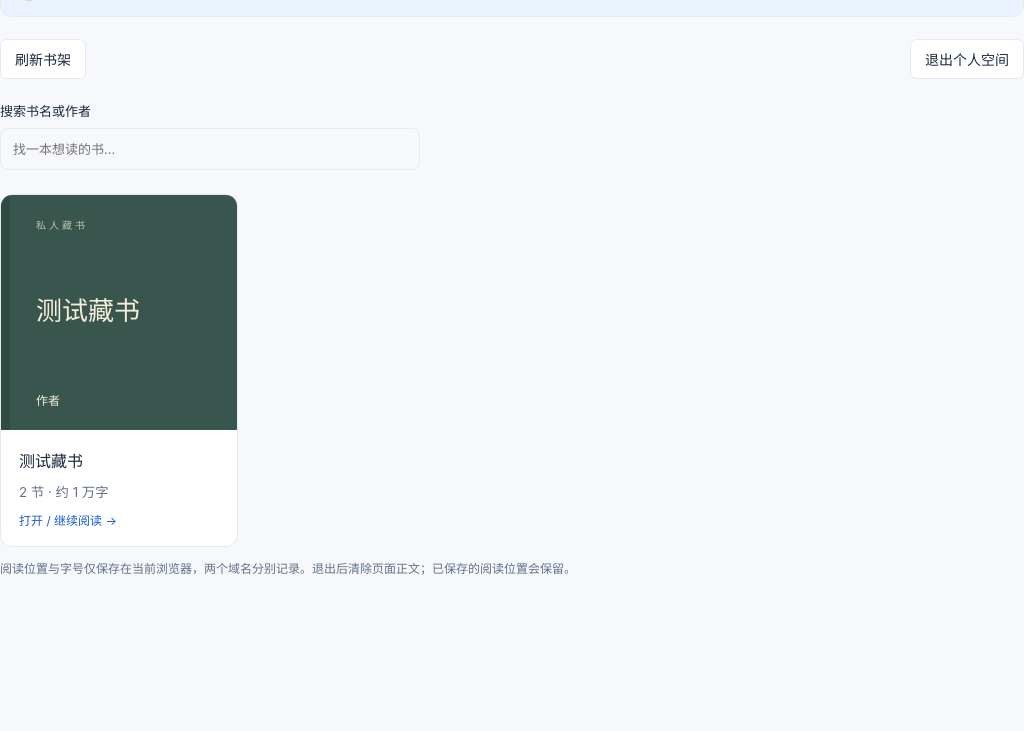
Scenario: expired session clears book metadata and content on the next chapter request
Click the button "私人藏书 测试藏书 作者 测试藏书 2 节 · 约 1 万字 打开 / 继续阅读 →" at (119, 370), box x1=0 y1=194 x2=238 y2=547
(page scrolled)
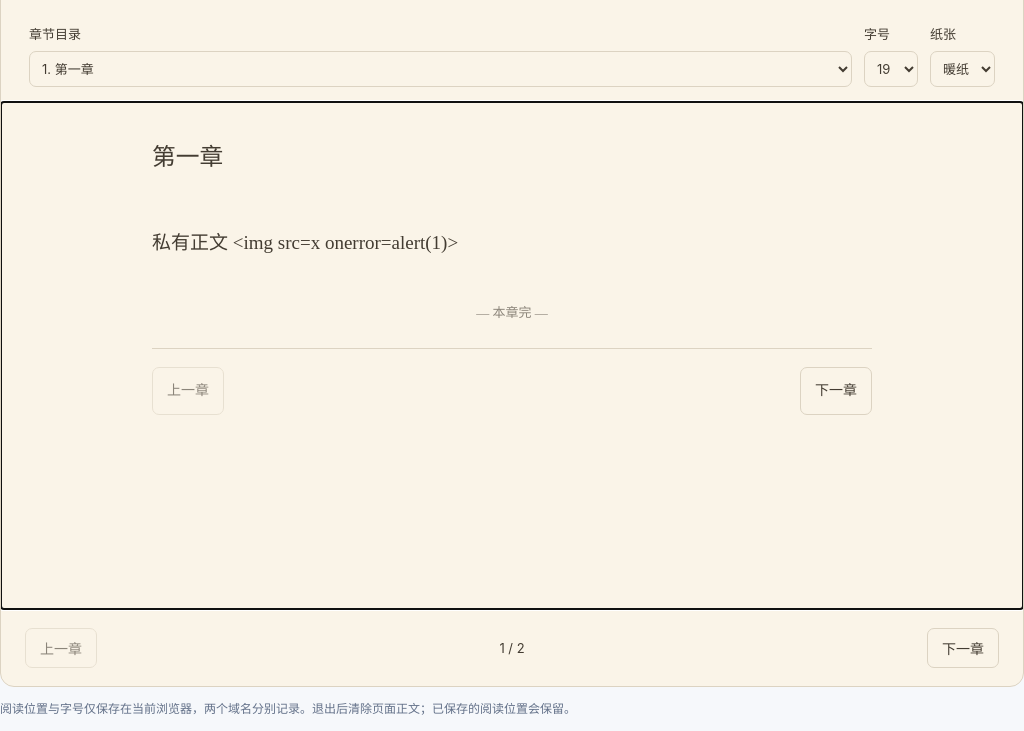
Now the element named "小说正文" is shown, box x1=152 y1=144 x2=872 y2=433
Click the 2nd button "下一章" at (963, 648), box x1=927 y1=628 x2=999 y2=668
(page scrolled)
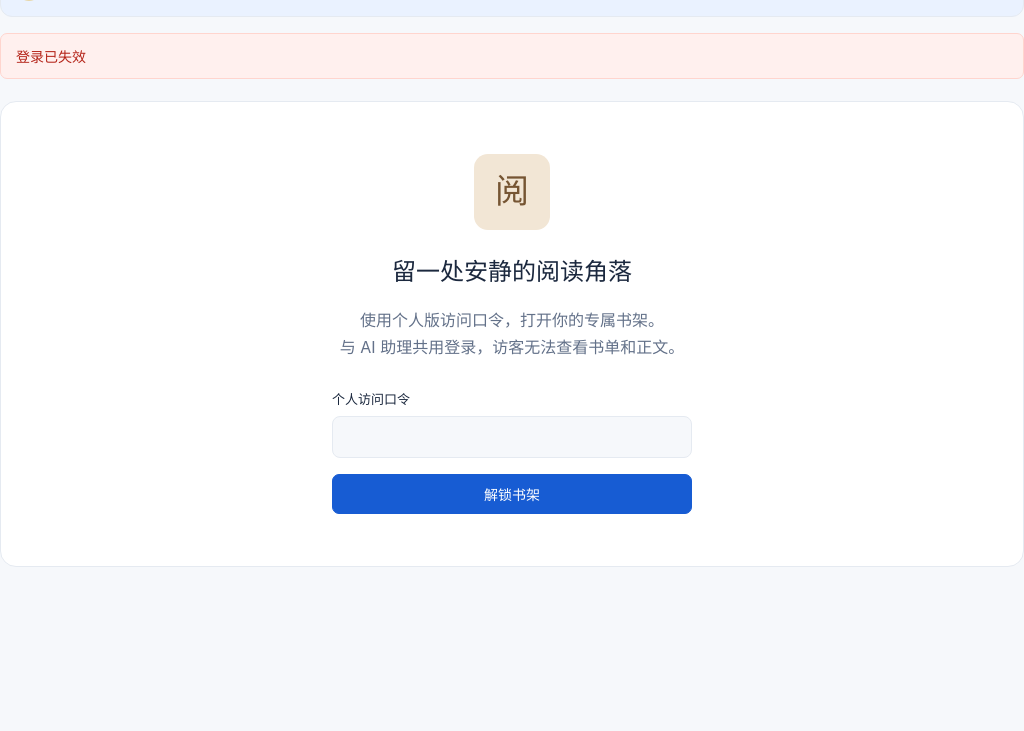
Expected: the password field named "书架访问口令" is shown, x1=332 y1=416 x2=692 y2=458
Now the field labelled "小说正文" is gone
